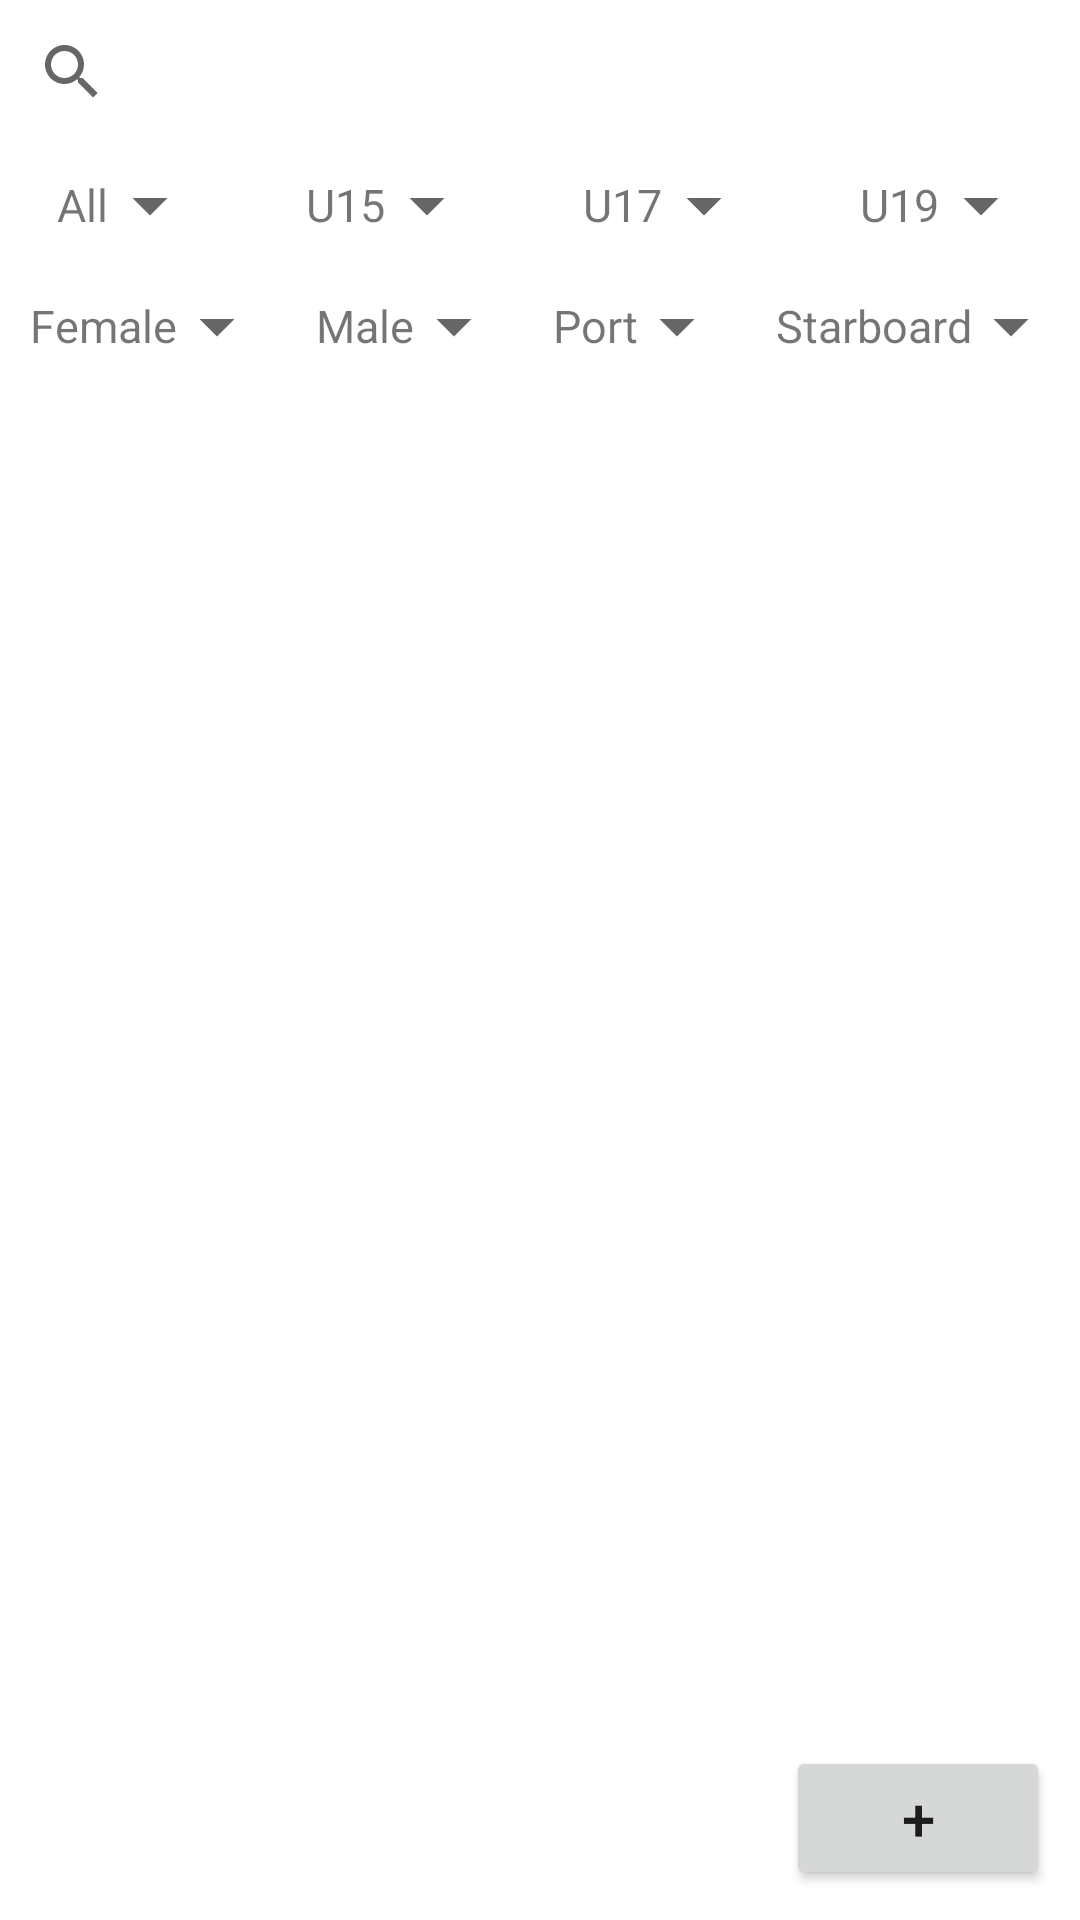

Named icons in this screenshot (1080px x 1920px) and their bounding boxes, box(x1, y1, x2, y2):
arrow drop down: box(133, 198, 167, 215), box(410, 198, 444, 215), box(687, 198, 721, 215), box(964, 198, 998, 215), box(200, 319, 234, 336), box(437, 319, 471, 336), box(660, 319, 694, 336), box(994, 319, 1028, 336)
